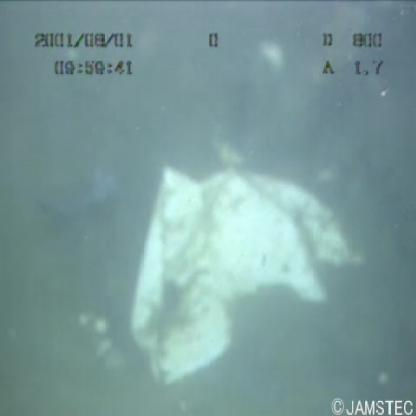Rác: (110, 152, 370, 393)
